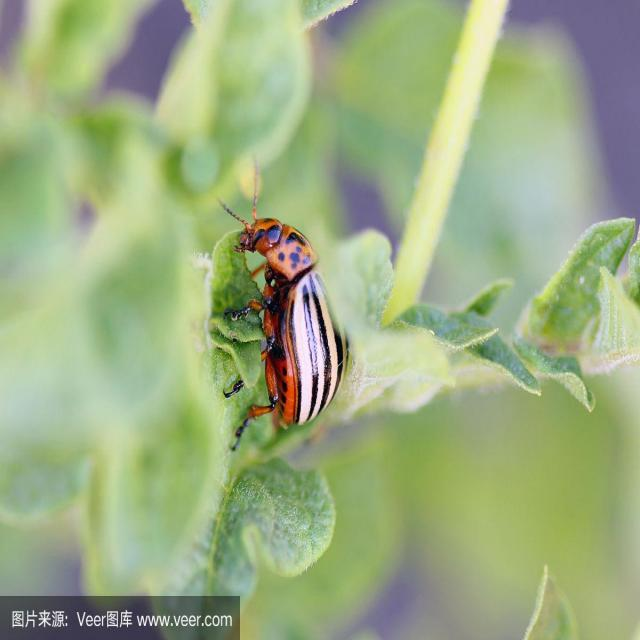ShuCaiHuaBanChong-Grown-: (220, 205, 358, 446)
